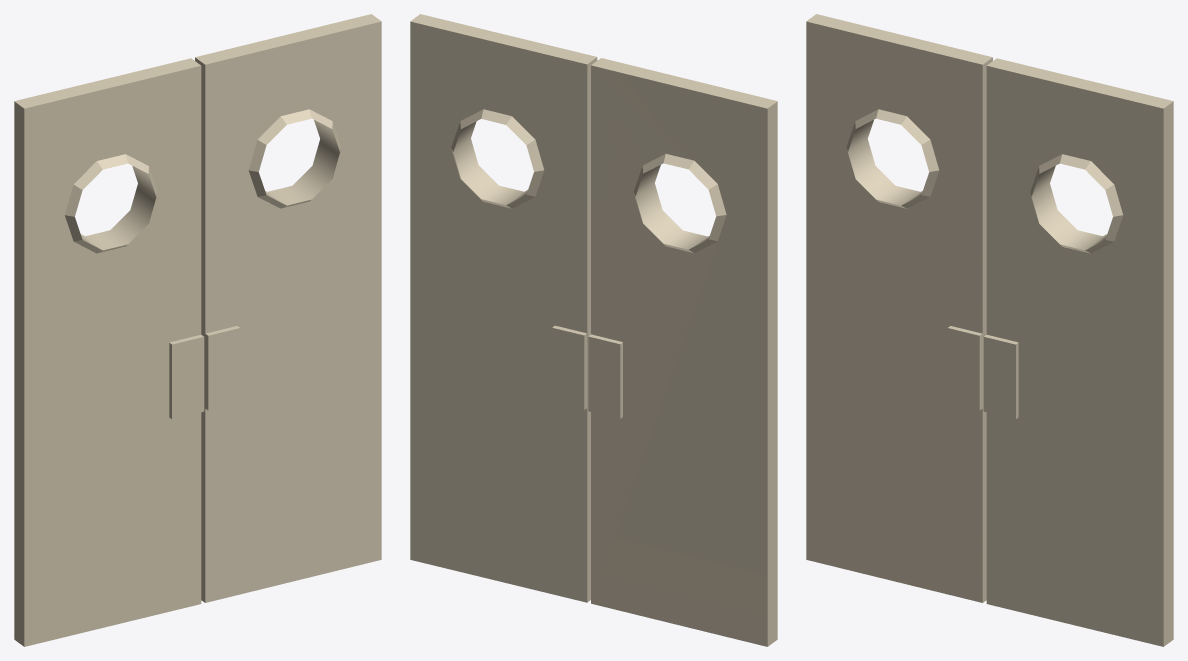
The model's file is Puerta.fbx.
The picture shows the model from 3 angles, left to right: view 1: azimuth 30°, elevation 25°; view 2: azimuth 150°, elevation 25°; view 3: azimuth 330°, elevation 25°; orthographic projection.
Parts seen in each view (by area): view 1: Box031; view 2: Box031; view 3: Box031.
Boxes of the visible parts, box(x1,y1,x2,y2) form: Box031: box(14, 14, 381, 646); Box031: box(410, 14, 777, 646); Box031: box(806, 14, 1173, 646).
Size of the model in its own units: 39.74 by 57.18 by 3.62.
